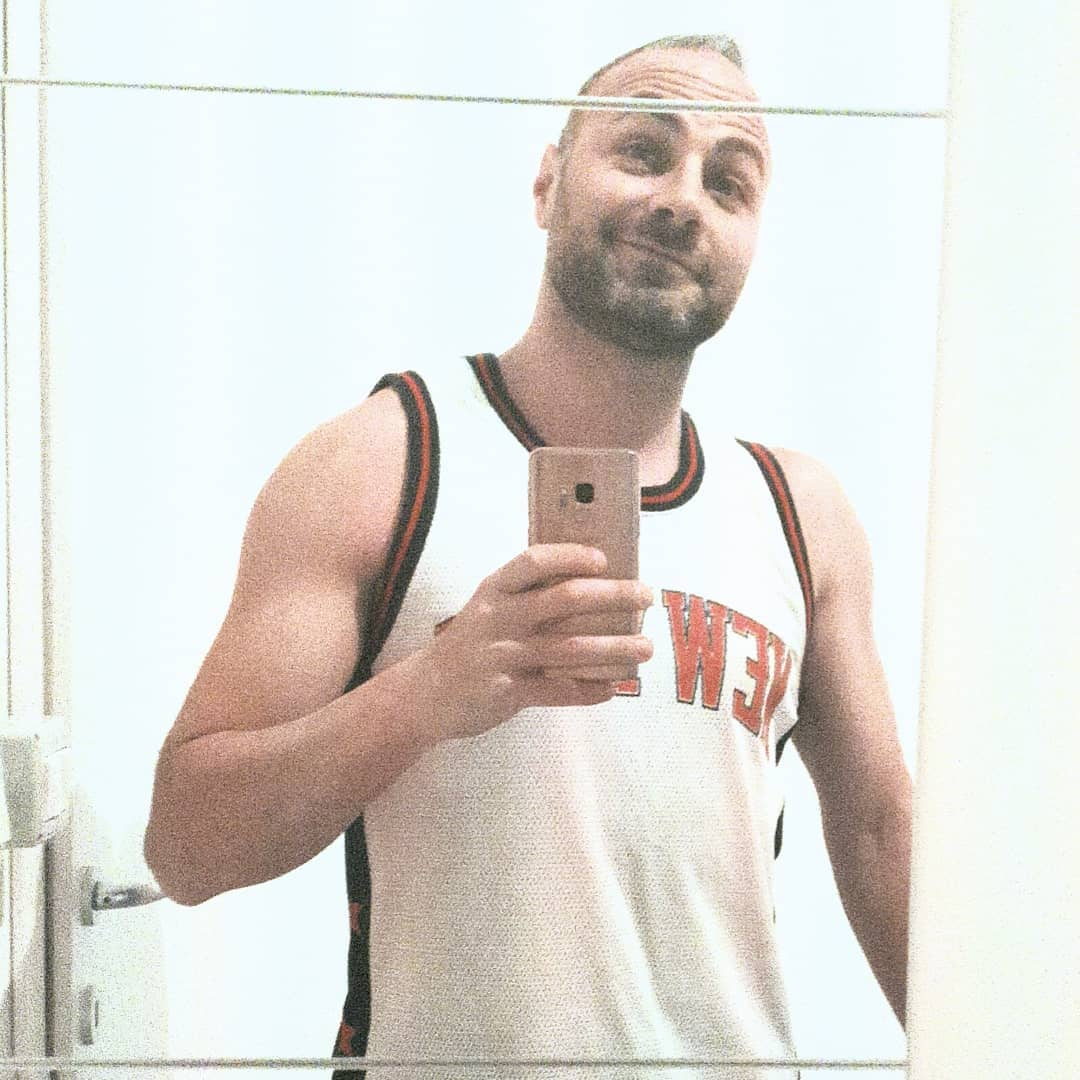hand: (408, 553, 641, 700)
